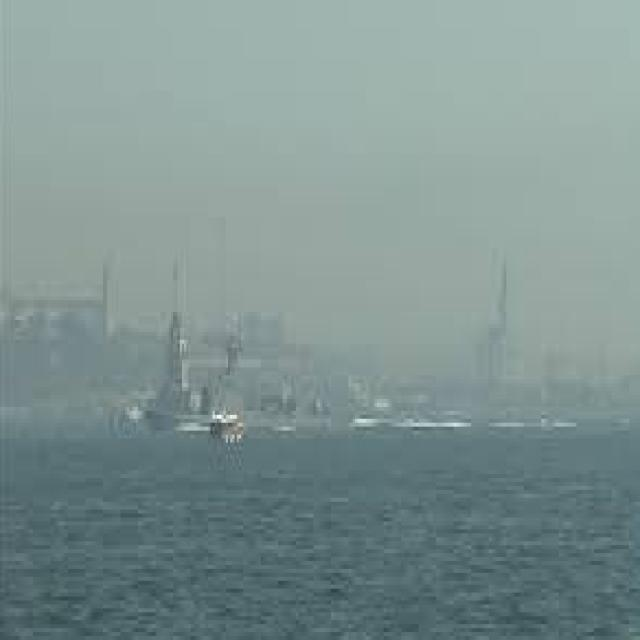cargoship: (211, 402, 259, 462)
